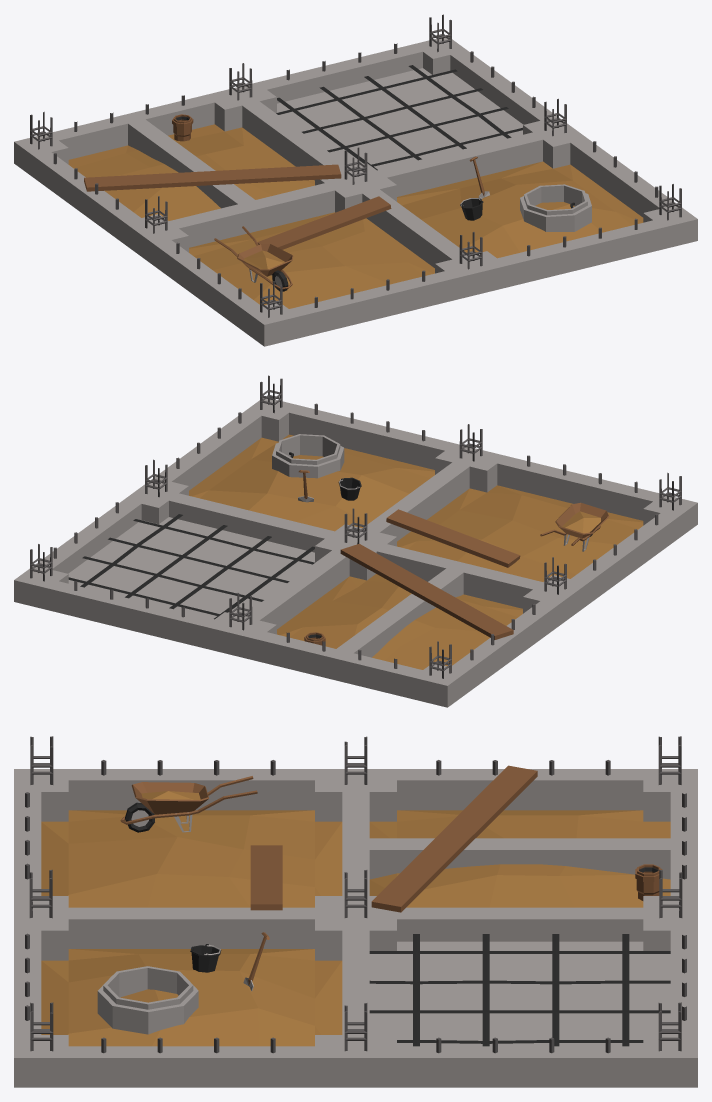
File: construction-contruction-small.glb
The picture shows the model from 3 angles, top to bottom: view 1: azimuth 30°, elevation 25°; view 2: azimuth 150°, elevation 25°; view 3: azimuth 270°, elevation 25°; orthographic projection. The views are drawn at different scales.
Parts seen in each view (by area): view 1: contruction-small-base, contruction-small-props; view 2: contruction-small-base, contruction-small-props; view 3: contruction-small-base, contruction-small-props.
Part boxes in pixels (<box>): contruction-small-base: <box>14,14,697,346</box>; contruction-small-props: <box>84,114,591,291</box>; contruction-small-base: <box>14,375,697,707</box>; contruction-small-props: <box>272,434,609,645</box>; contruction-small-base: <box>14,736,697,1087</box>; contruction-small-props: <box>97,765,662,1034</box>.
Size of the model in its own units: 8.33 by 0.9286 by 8.33.
